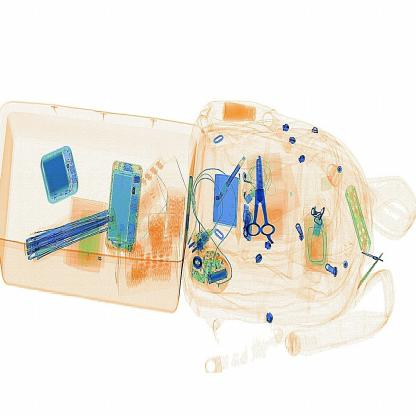gun: (235, 146, 288, 258)
